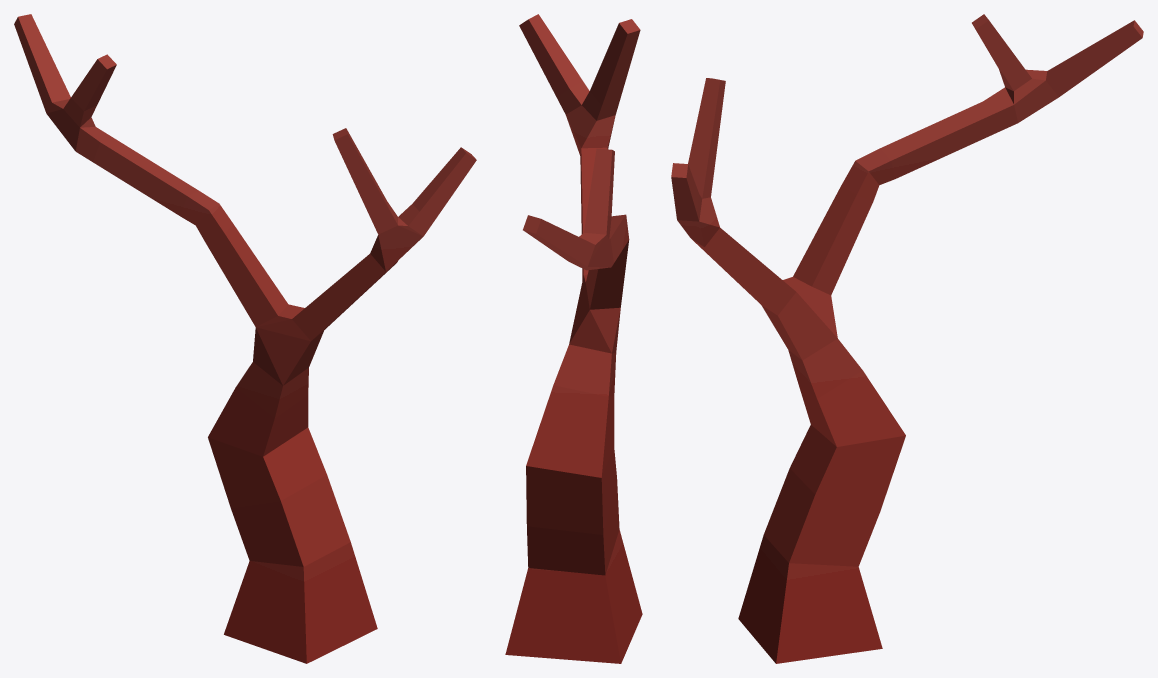
File: Tree1.glb
3 views of the same model, side by side, from view 1: azimuth 30°, elevation 25°; view 2: azimuth 150°, elevation 25°; view 3: azimuth 270°, elevation 25° (orthographic). The views are drawn at different scales.
Visible parts, largest first — view 1: Cube; view 2: Cube; view 3: Cube.
Boxes of the visible parts, left/top/right/bottom form: Cube: left=14, top=14, right=476, bottom=663; Cube: left=505, top=14, right=642, bottom=663; Cube: left=671, top=14, right=1143, bottom=663.
Size of the model in its own units: 3.53 by 7.44 by 5.69.
1 material, 1 textured.
